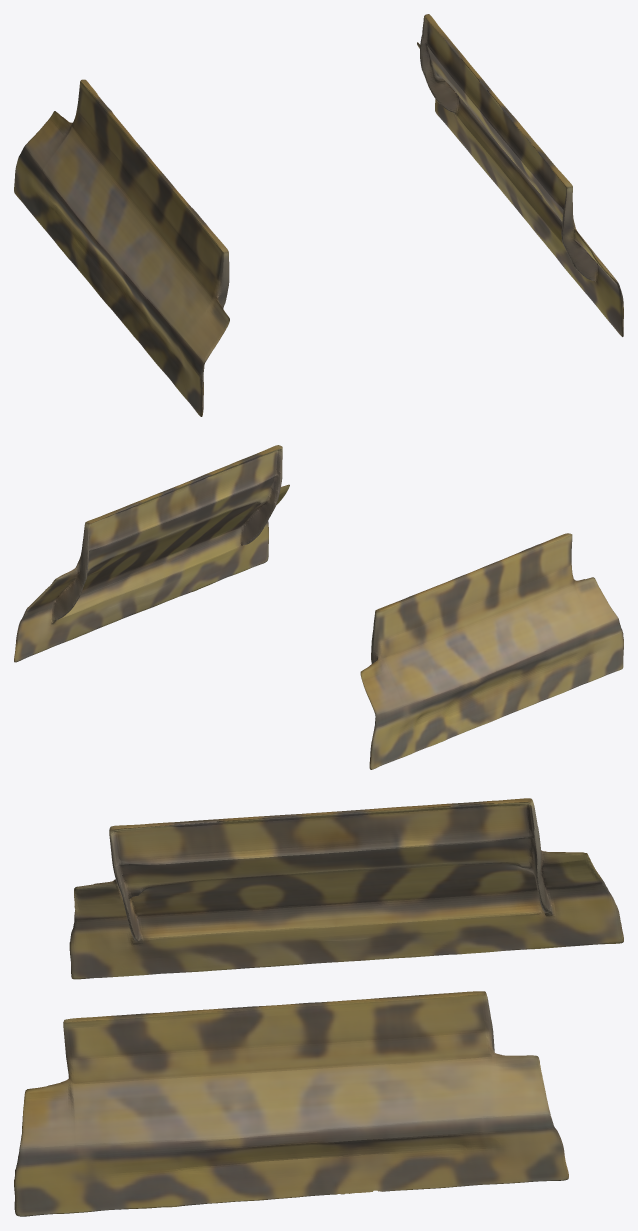
Rendered from guard-multi.glb.
3 views of the same model, one above another, from view 1: azimuth 30°, elevation 25°; view 2: azimuth 150°, elevation 25°; view 3: azimuth 270°, elevation 25° (orthographic). The views are drawn at different scales.
Visible parts, largest first — view 1: geometry_0; view 2: geometry_0; view 3: geometry_0.
Boxes of the visible parts, x1=… form: geometry_0: x1=14, y1=14, x2=623, y2=416; geometry_0: x1=14, y1=445, x2=623, y2=769; geometry_0: x1=14, y1=798, x2=623, y2=1216.
Bounding box in the file's own units: 3.35 × 1.33 × 3.31.
